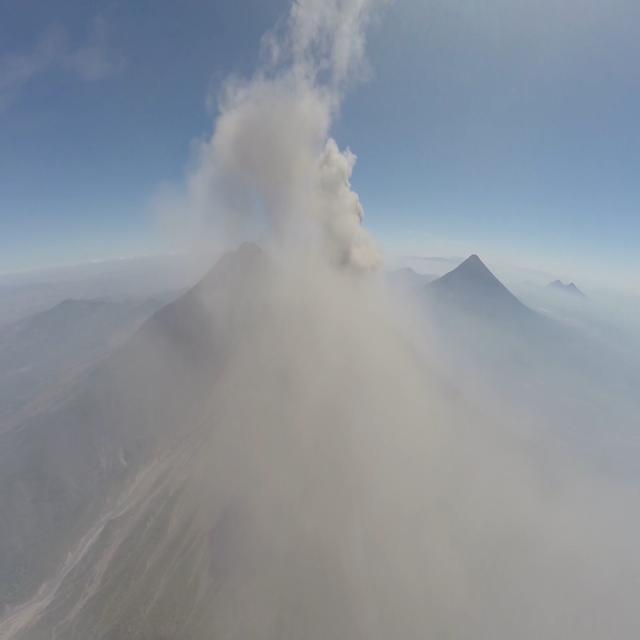Plume: (212, 304, 640, 640), (186, 0, 392, 288)
